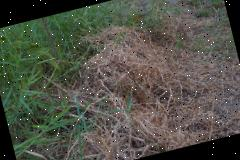organic: (0, 40, 48, 127), (100, 28, 156, 95)
